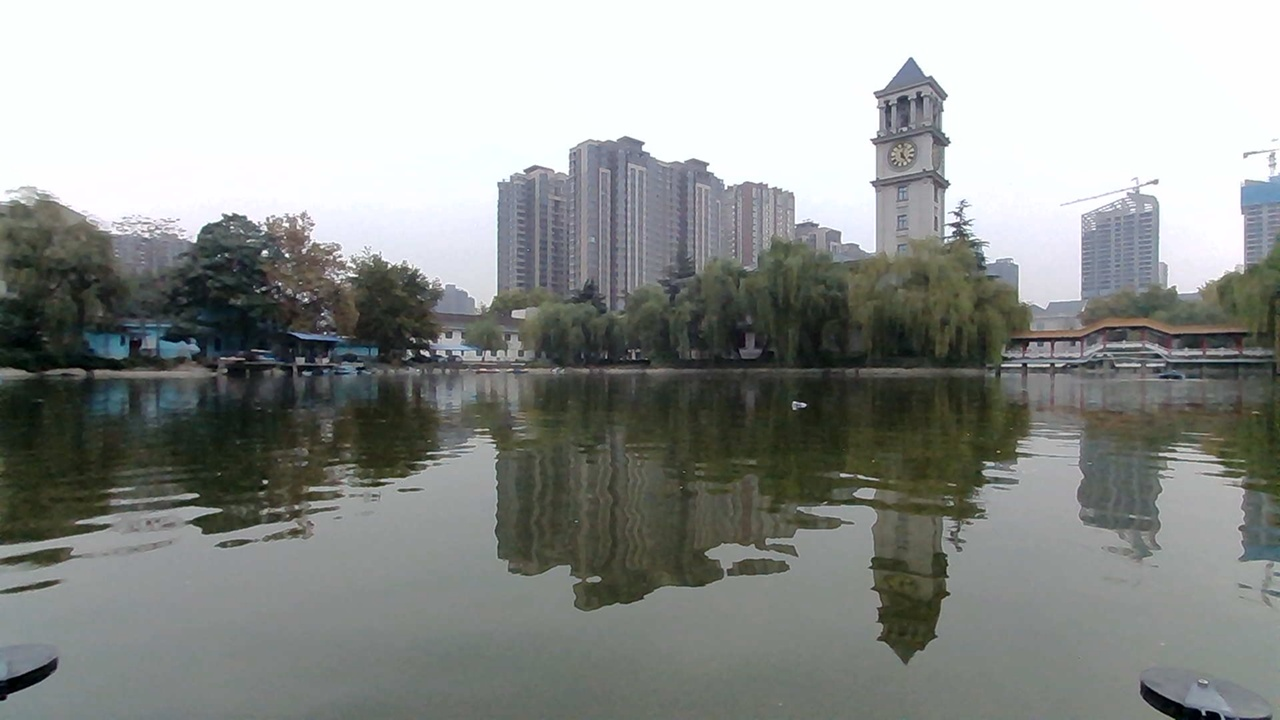bottle: (787, 386, 826, 416)
